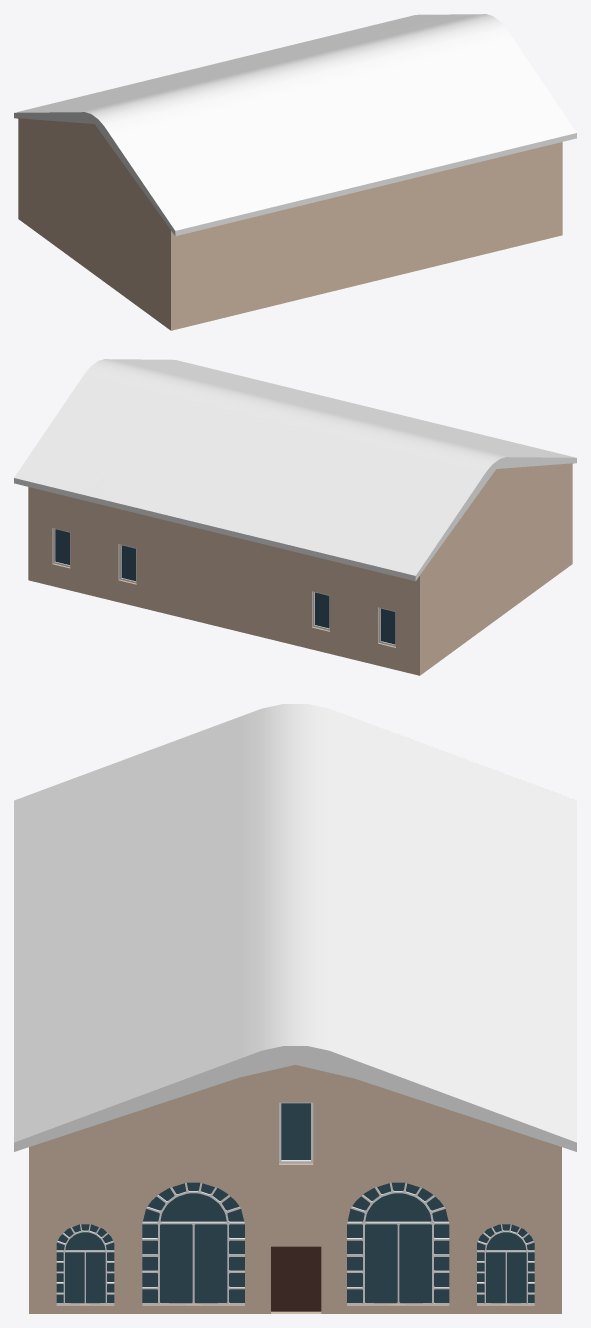
File: PicduMidi_Edificio_Pieza_D_01.fbx
3 renders of one model, top to bottom at view 1: azimuth 30°, elevation 25°; view 2: azimuth 150°, elevation 25°; view 3: azimuth 270°, elevation 25°, orthographic. The views are drawn at different scales.
Visible parts, largest first — view 1: Edificio_pieza_D; view 2: Edificio_pieza_D; view 3: Edificio_pieza_D, Edificio_pieza_D_enrejado_cristalera.001, Edificio_pieza_D_enrejado_cristalera.002, Edificio_pieza_D_enrejado_cristalera.003, Edificio_pieza_D_enrejado_cristalera.004.
Part boxes in pixels (box(x1,y1,x2,y2)): Edificio_pieza_D: box(14, 14, 576, 330); Edificio_pieza_D: box(14, 359, 576, 675); Edificio_pieza_D: box(14, 704, 576, 1313); Edificio_pieza_D_enrejado_cristalera.001: box(347, 1182, 449, 1304); Edificio_pieza_D_enrejado_cristalera.002: box(142, 1182, 244, 1304); Edificio_pieza_D_enrejado_cristalera.003: box(56, 1224, 114, 1304); Edificio_pieza_D_enrejado_cristalera.004: box(477, 1224, 534, 1304).
Bounding box in the file's own units: 3465 × 1306 × 2410.
